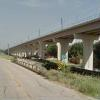Bridge: (10, 18, 97, 61)
